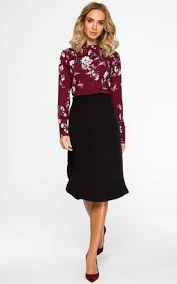F_tailored skirt: (62, 90, 133, 206)
